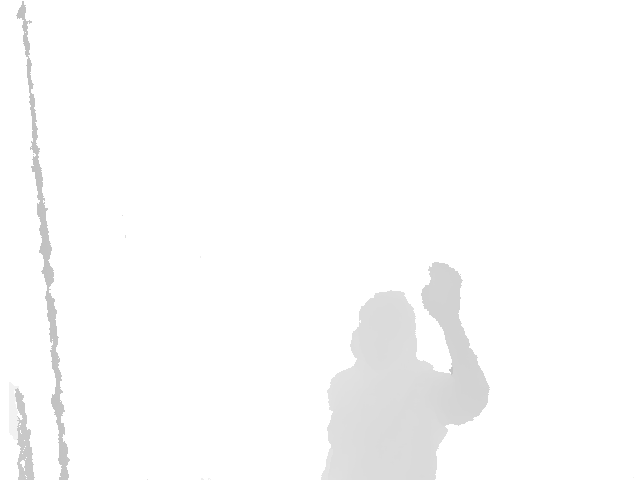hand: (420, 262, 463, 322)
head: (349, 290, 419, 363)
person: (321, 262, 491, 480)
